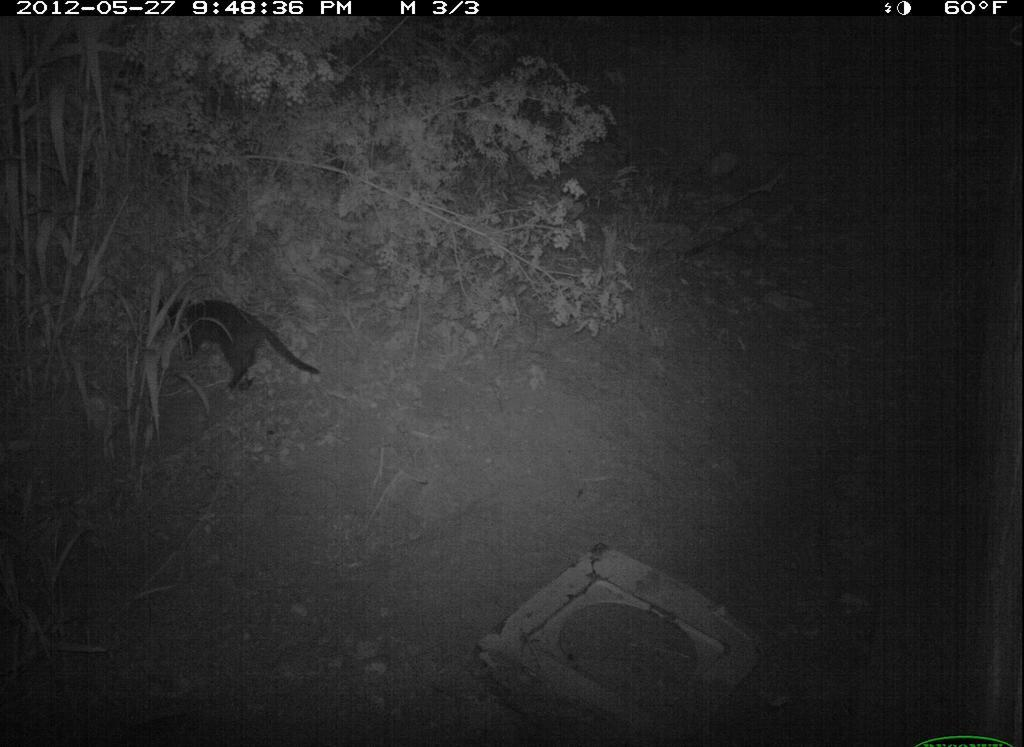cat: (152, 281, 329, 402)
